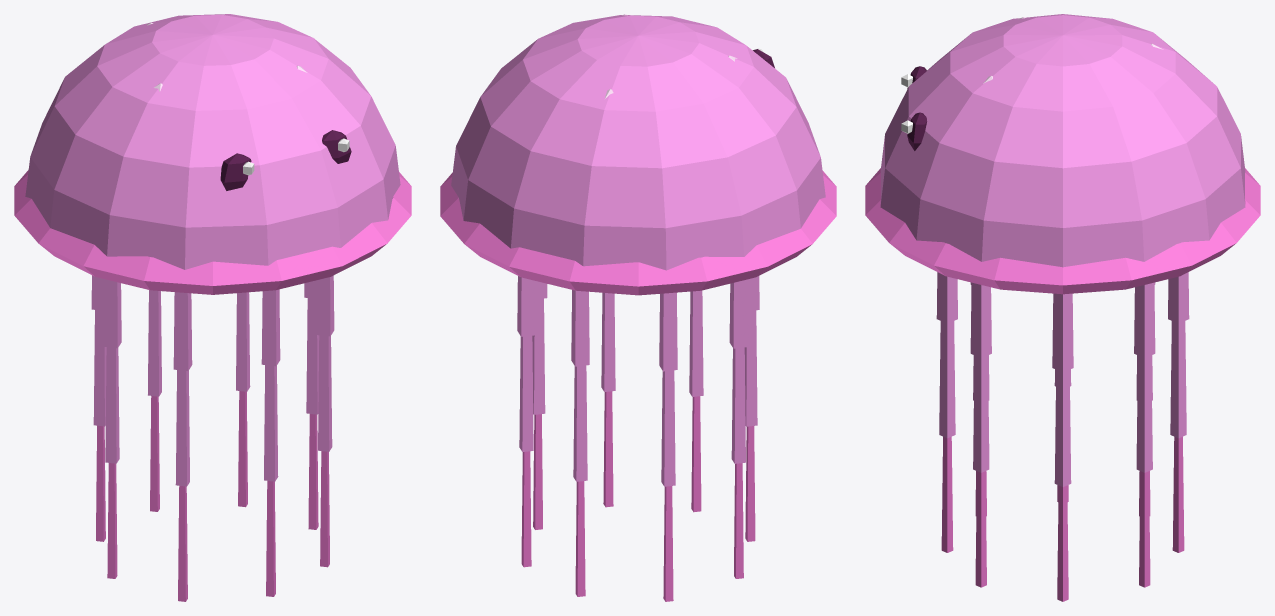
The model's file is qualle.glb.
3 views of the same model, side by side, from view 1: azimuth 30°, elevation 25°; view 2: azimuth 150°, elevation 25°; view 3: azimuth 270°, elevation 25° (orthographic).
Visible parts, largest first — view 1: bell-m, tentSeg-13-m, tentSeg-4-m, tentSeg-7-m, tentSeg-10-m, tentSeg-19-m, tentSeg-9-m, tentSeg-22-m, tentSeg-6-m, tentSeg-16-m, tentSeg-1-m, tentSeg-12-m (+11 smaller); view 2: bell-m, tentSeg-16-m, tentSeg-19-m, tentSeg-22-m, tentSeg-13-m, tentSeg-7-m, tentSeg-15-m, tentSeg-18-m, tentSeg-4-m, tentSeg-1-m, tentSeg-10-m, tentSeg-12-m (+9 smaller); view 3: bell-m, tentSeg-7-m, tentSeg-19-m, tentSeg-4-m, tentSeg-22-m, tentSeg-1-m, tentSeg-0-m, tentSeg-3-m, tentSeg-21-m, tentSeg-2-m, tentSeg-5-m, tentSeg-23-m (+5 smaller).
Part boxes in pixels (left/top/right/bottom): bell-m: left=14, top=14, right=411, bottom=294; tentSeg-13-m: left=105, top=347, right=119, bottom=463; tentSeg-4-m: left=318, top=335, right=332, bottom=451; tentSeg-7-m: left=264, top=365, right=278, bottom=481; tentSeg-10-m: left=175, top=370, right=189, bottom=486; tentSeg-19-m: left=148, top=290, right=161, bottom=396; tentSeg-9-m: left=173, top=292, right=192, bottom=370; tentSeg-22-m: left=236, top=292, right=250, bottom=391; tentSeg-6-m: left=261, top=289, right=280, bottom=366; tentSeg-16-m: left=93, top=310, right=106, bottom=426; tentSeg-1-m: left=306, top=298, right=319, bottom=414; tentSeg-12-m: left=103, top=279, right=121, bottom=348; bell-m: left=440, top=14, right=836, bottom=295; tentSeg-16-m: left=661, top=370, right=675, bottom=486; tentSeg-19-m: left=573, top=365, right=587, bottom=481; tentSeg-22-m: left=519, top=335, right=533, bottom=451; tentSeg-13-m: left=731, top=347, right=745, bottom=463; tentSeg-7-m: left=689, top=290, right=703, bottom=396; tentSeg-15-m: left=659, top=292, right=677, bottom=371; tentSeg-18-m: left=571, top=290, right=589, bottom=366; tentSeg-4-m: left=601, top=292, right=615, bottom=391; tentSeg-1-m: left=532, top=298, right=545, bottom=414; tentSeg-10-m: left=744, top=310, right=757, bottom=426; tentSeg-12-m: left=729, top=279, right=747, bottom=348; bell-m: left=865, top=14, right=1260, bottom=294; tentSeg-7-m: left=939, top=321, right=955, bottom=438; tentSeg-19-m: left=1170, top=321, right=1186, bottom=438; tentSeg-4-m: left=973, top=355, right=989, bottom=472; tentSeg-22-m: left=1136, top=355, right=1152, bottom=472; tentSeg-1-m: left=1054, top=370, right=1071, bottom=486; tentSeg-0-m: left=1052, top=293, right=1073, bottom=372; tentSeg-3-m: left=970, top=282, right=991, bottom=357; tentSeg-21-m: left=1134, top=282, right=1155, bottom=357; tentSeg-2-m: left=1057, top=485, right=1068, bottom=601; tentSeg-5-m: left=975, top=471, right=986, bottom=587; tentSeg-23-m: left=1139, top=471, right=1150, bottom=587.
Size of the model in its own units: 1.32 by 1.87 by 1.3.
